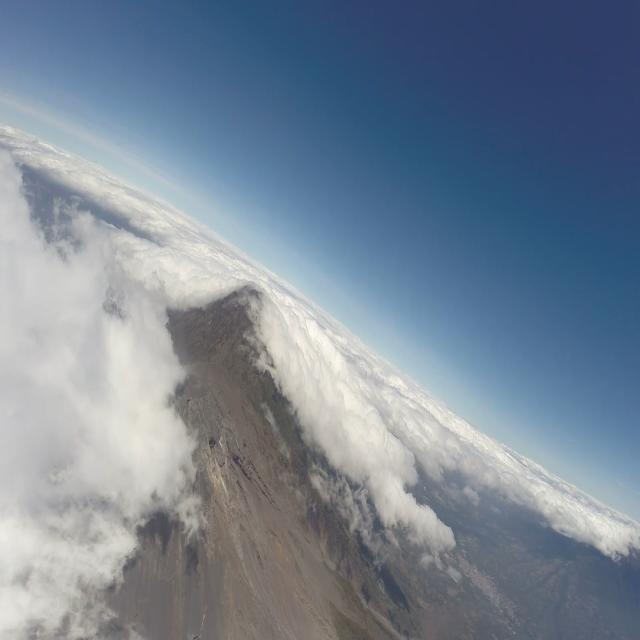Summit: (172, 367, 224, 499)
